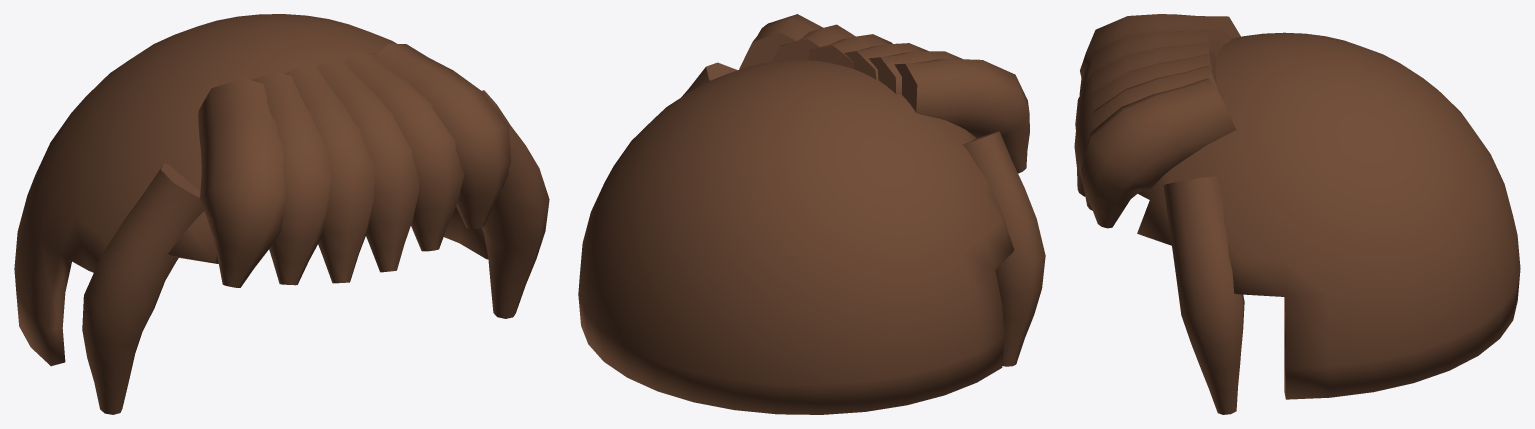
Rendered from hair_braid.glb.
3 renders of one model, left to right at view 1: azimuth 30°, elevation 25°; view 2: azimuth 150°, elevation 25°; view 3: azimuth 270°, elevation 25°, orthographic. The views are drawn at different scales.
Visible parts, largest first — view 1: lock; view 2: lock; view 3: lock.
Part boxes in pixels (x1,y1,x2,y2): lock: [14, 14, 549, 414]; lock: [578, 14, 1045, 414]; lock: [1074, 14, 1520, 414].
Size of the model in its own units: 2.31 by 1.5 by 2.18.
